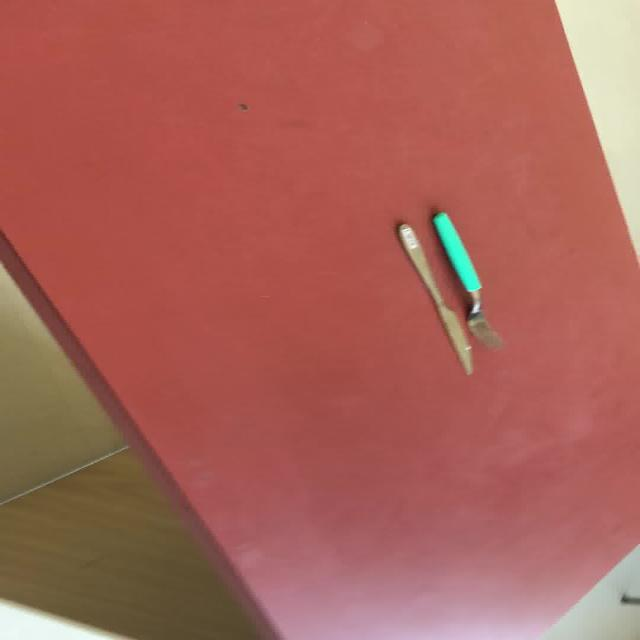fork: (429, 210, 504, 350)
knife fork: (393, 221, 473, 375), (428, 209, 504, 350)
